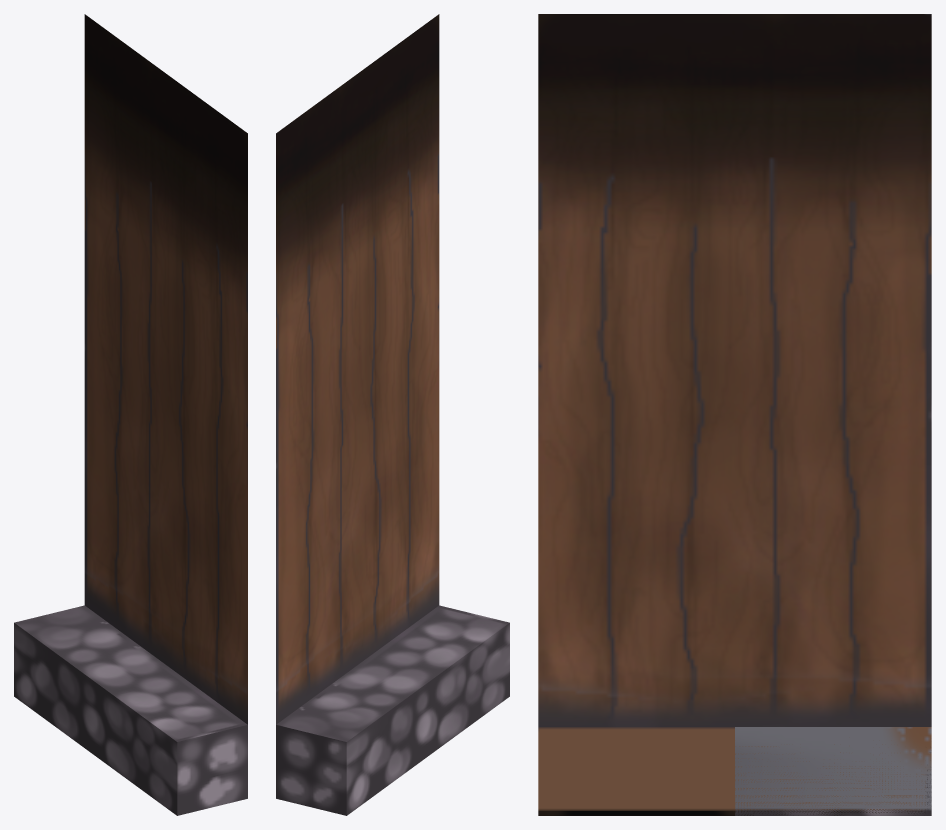
The model's file is wooden_wall_full.obj.
3 renders of one model, left to right at view 1: azimuth 30°, elevation 25°; view 2: azimuth 150°, elevation 25°; view 3: azimuth 270°, elevation 25°, orthographic. The views are drawn at different scales.
Parts seen in each view (by area): view 1: Cube.002_Cube.012, Cube.001_Cube.011; view 2: Cube.001_Cube.011, Cube.002_Cube.012; view 3: Cube.001_Cube.011, Cube.002_Cube.012.
Part boxes in pixels (x1,y1,x2,y2): Cube.002_Cube.012: [95, 74, 247, 815]; Cube.001_Cube.011: [14, 14, 166, 755]; Cube.001_Cube.011: [276, 74, 428, 815]; Cube.002_Cube.012: [357, 14, 509, 755]; Cube.001_Cube.011: [735, 14, 931, 815]; Cube.002_Cube.012: [538, 14, 734, 815].
Bounding box in the file's own units: 1 × 9 × 4.
1 material, 1 textured.
